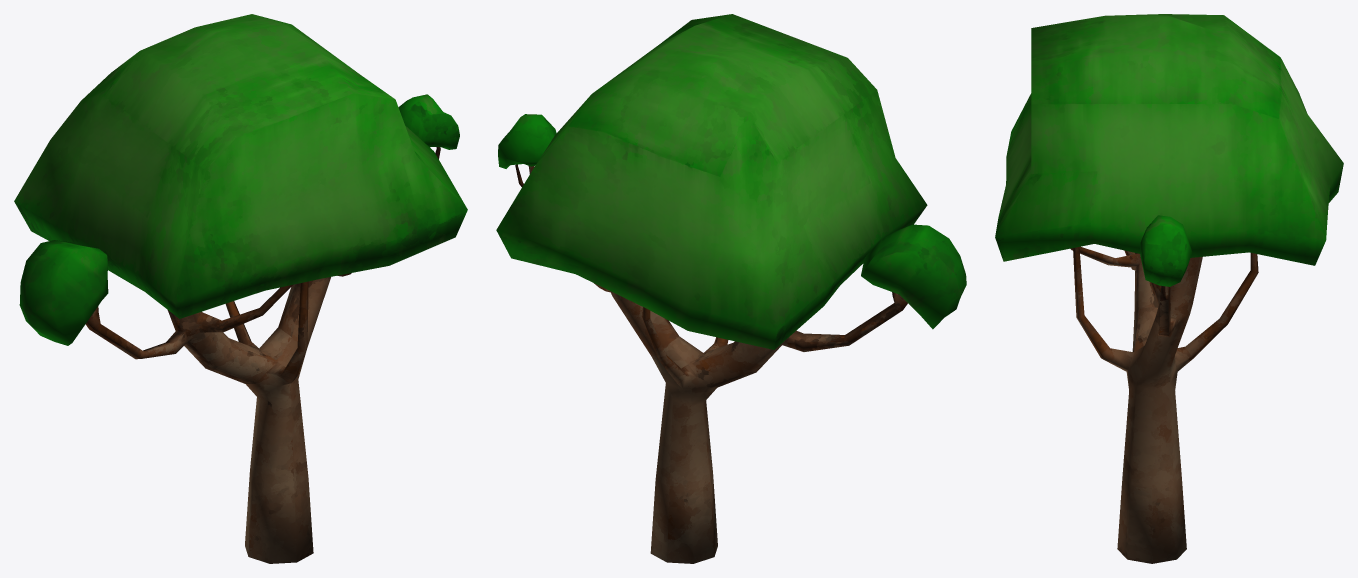
The model's file is art_3D model_Environment_PohonEboni.fbx.
3 views of the same model, side by side, from view 1: azimuth 30°, elevation 25°; view 2: azimuth 150°, elevation 25°; view 3: azimuth 270°, elevation 25° (orthographic). The views are drawn at different scales.
Parts seen in each view (by area): view 1: eboni; view 2: eboni; view 3: eboni.
Part boxes in pixels (x1,y1,x2,y2): eboni: (14, 14, 467, 563); eboni: (496, 14, 966, 563); eboni: (995, 14, 1343, 563).
Bounding box in the file's own units: 1371 × 1528 × 950.
2 materials, 2 textured.
